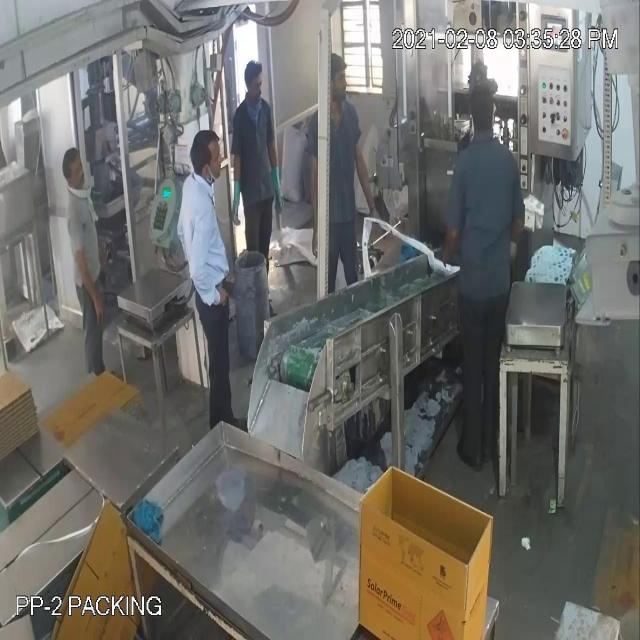Gloves: (20, 79, 366, 274)
